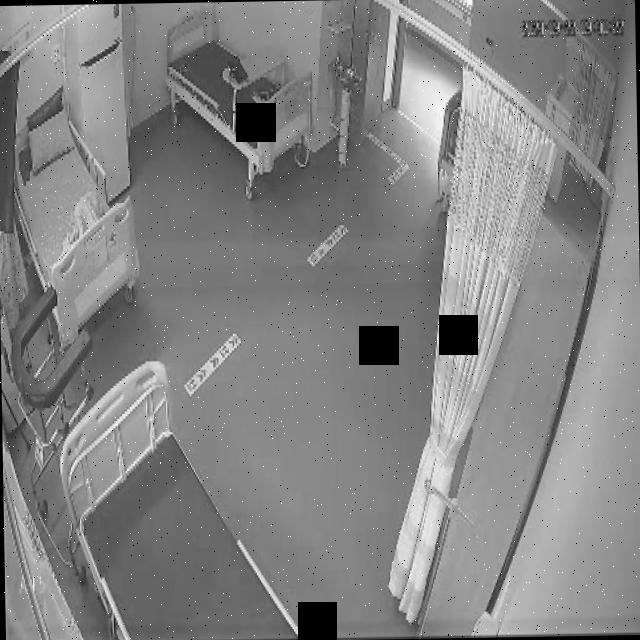bed: (54, 355, 299, 640), (10, 105, 140, 332), (166, 8, 314, 174)
walker: (5, 282, 95, 492)
